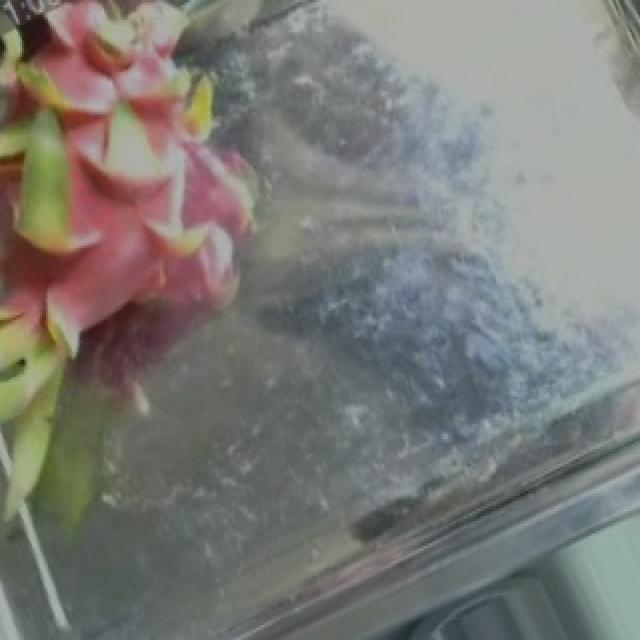fruit: (0, 0, 356, 387)
